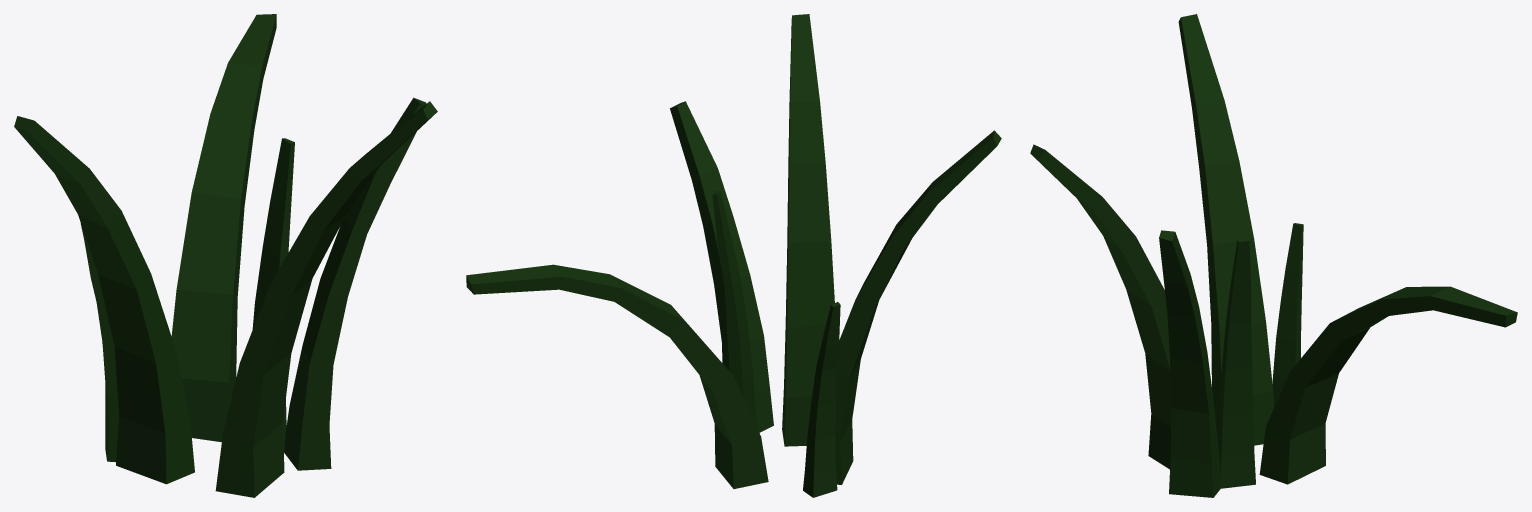
File: grass006_grass2_0_lev1.glb
The picture shows the model from 3 angles, left to right: view 1: azimuth 30°, elevation 25°; view 2: azimuth 150°, elevation 25°; view 3: azimuth 270°, elevation 25°; orthographic projection. The views are drawn at different scales.
Parts seen in each view (by area): view 1: grass006_grass2_0_lev1; view 2: grass006_grass2_0_lev1; view 3: grass006_grass2_0_lev1.
Part boxes in pixels (x1,y1,x2,y2): grass006_grass2_0_lev1: [14, 14, 437, 497]; grass006_grass2_0_lev1: [466, 14, 1001, 497]; grass006_grass2_0_lev1: [1030, 14, 1517, 497].
Size of the model in its own units: 0.2718 by 0.2436 by 0.3015.
